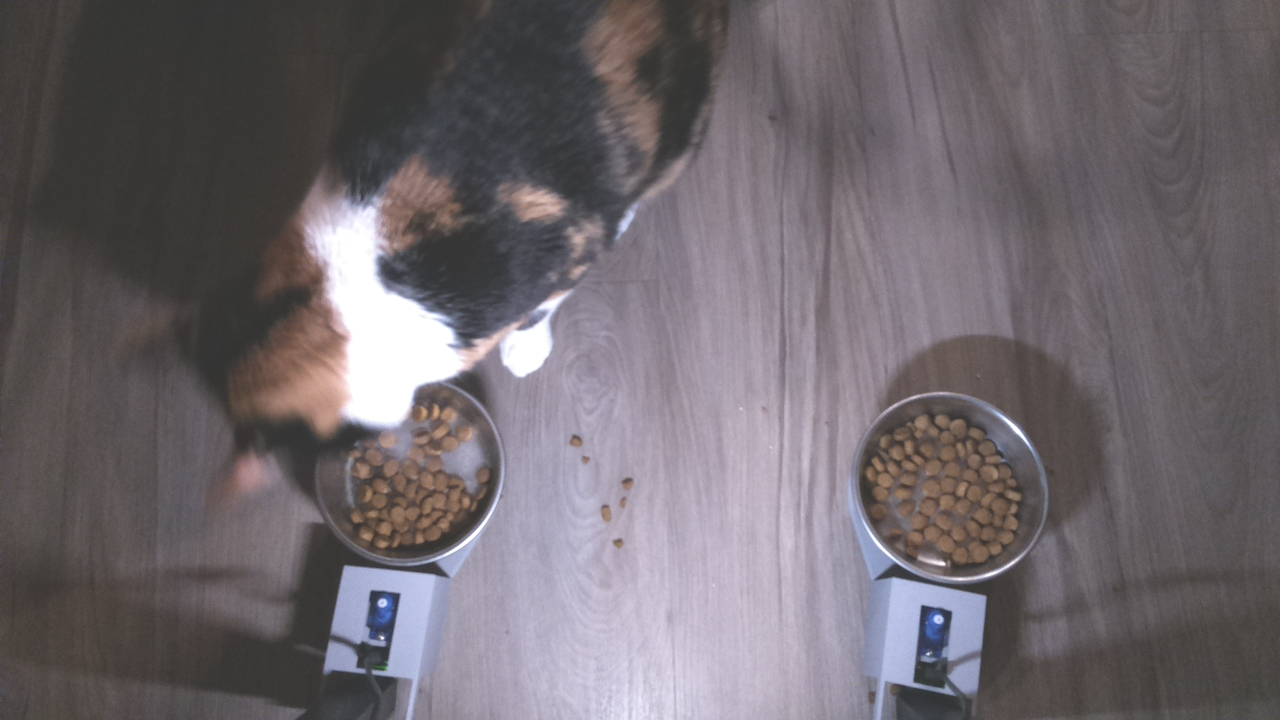bella_eating: (157, 212, 478, 496)
open_bowl: (849, 390, 1054, 590), (314, 426, 507, 569)
